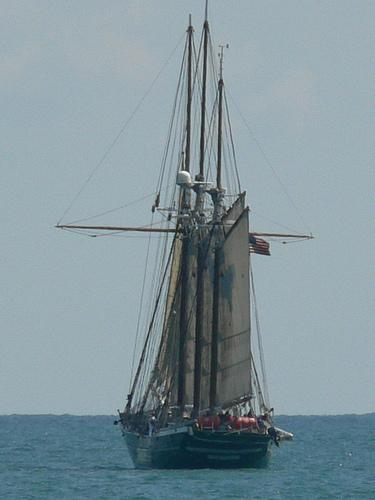Ship: (58, 1, 313, 471)
